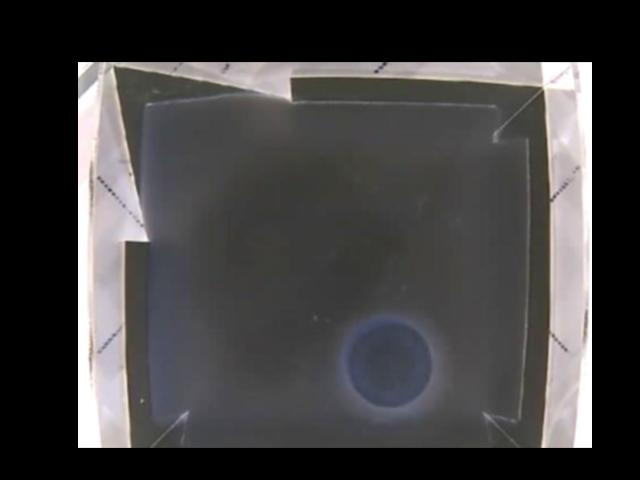Mooli: (346, 319, 433, 408)
